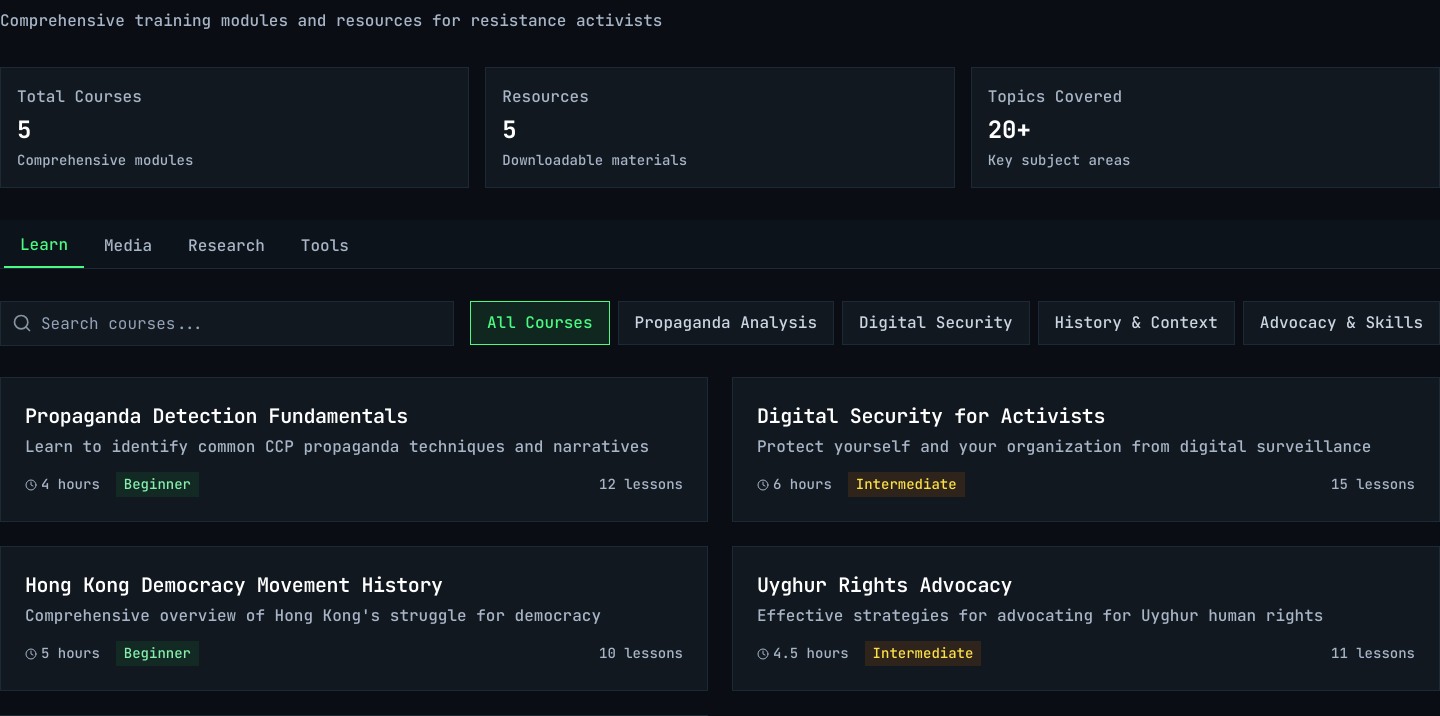
Test case: EducationalResources › switches to Tools tab with FAQ merged in
Step 1. Click the button "Tools" → (325, 246), box top-left (285, 224), bottom-right (365, 268)
(page scrolled)
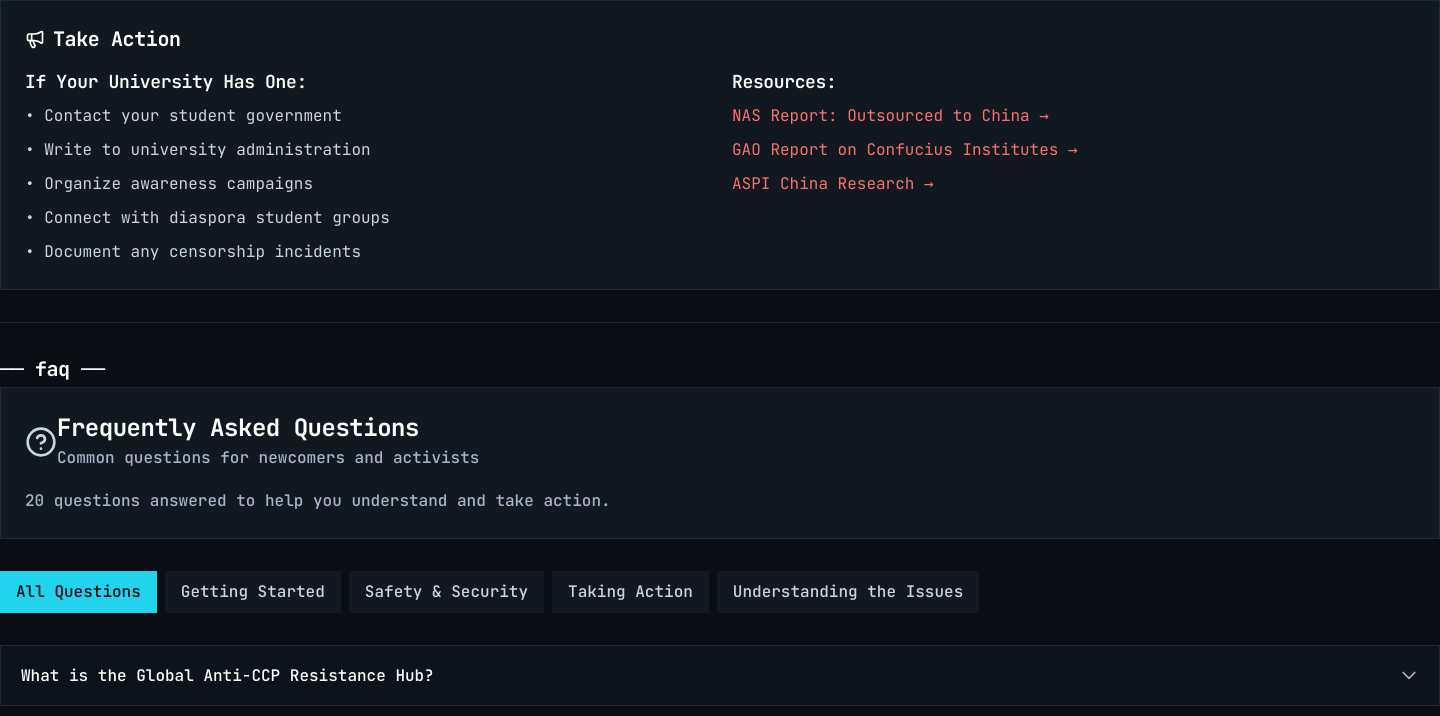
Result: the heading "── faq ──" is shown at top-left (0, 356), bottom-right (105, 382)
